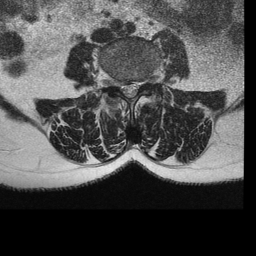CCS_stenosis: (126, 75, 133, 105)
LFS_stenosis: (140, 69, 147, 94)
LLS_normal: (133, 72, 140, 100)
RFS_normal: (111, 68, 119, 96)
RLS_normal: (119, 73, 126, 100)
